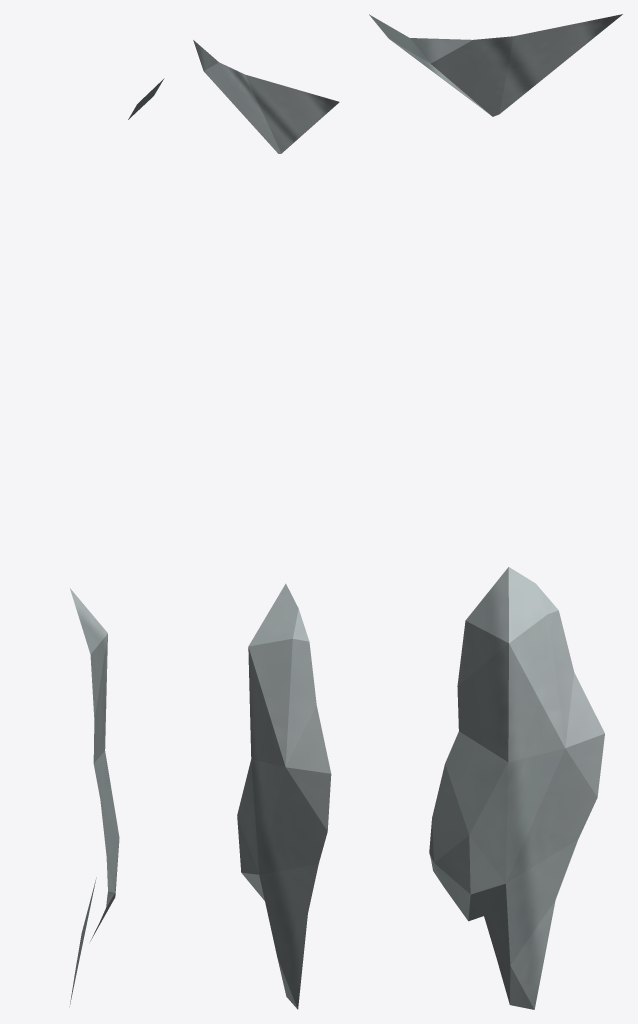
3 renders of one model, left to right at view 1: azimuth 30°, elevation 25°; view 2: azimuth 210°, elevation 25°; view 3: azimuth 270°, elevation 25°, orthographic. The views are drawn at different scales.
Size of the model in its own units: 0.0681 by 1.22 by 0.2836.
1 material, 1 textured.
